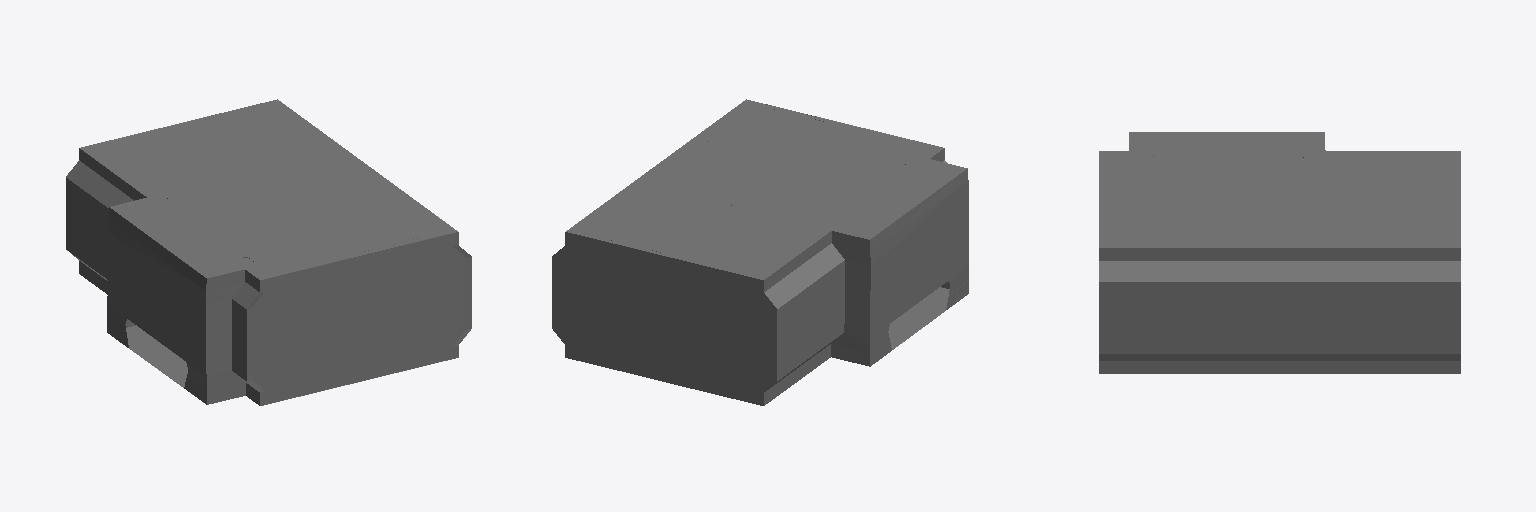
The model's file is almacen_peque_abajo.obj.
3 views of the same model, side by side, from view 1: azimuth 30°, elevation 25°; view 2: azimuth 150°, elevation 25°; view 3: azimuth 270°, elevation 25° (orthographic).
Parts seen in each view (by area): view 1: polySurface2129; view 2: polySurface2129; view 3: polySurface2129.
Part boxes in pixels (left/top/right/bottom): polySurface2129: left=66, top=99, right=471, bottom=405; polySurface2129: left=552, top=99, right=968, bottom=405; polySurface2129: left=1099, top=132, right=1460, bottom=373.
Bounding box in the file's own units: 42.19 × 20.27 × 52.63.